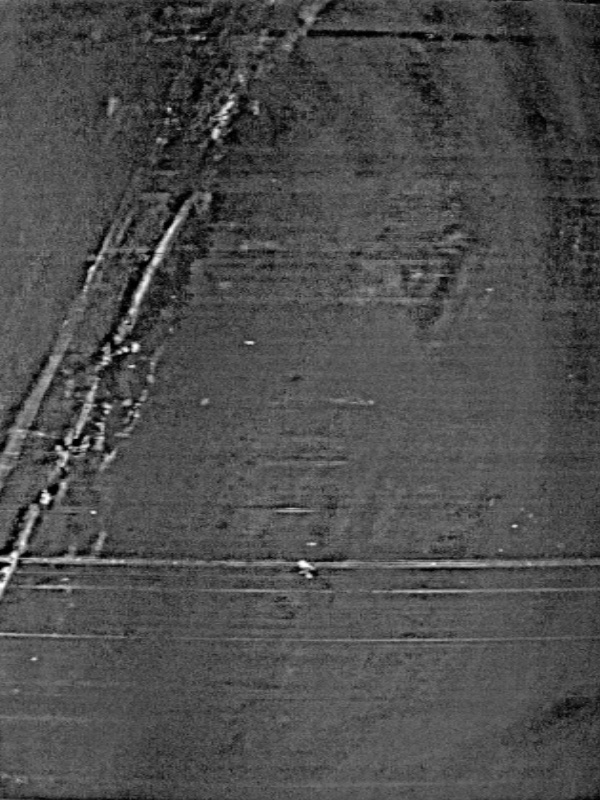splice_vulcanized: (2, 1, 307, 599)
